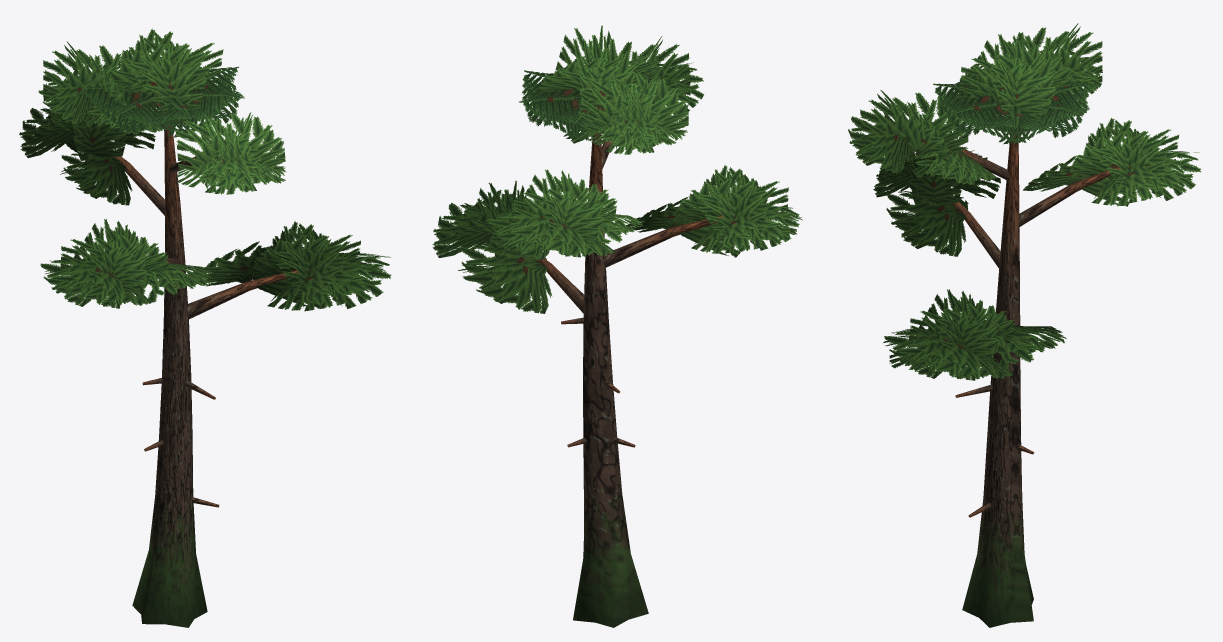
File: duckov_pine_tree_tall.obj
The picture shows the model from 3 angles, left to right: view 1: azimuth 30°, elevation 25°; view 2: azimuth 150°, elevation 25°; view 3: azimuth 270°, elevation 25°; orthographic projection.
Parts seen in each view (by area): view 1: DuckovPineTreeTall; view 2: DuckovPineTreeTall; view 3: DuckovPineTreeTall.
Boxes of the visible parts, box(x1,y1,x2,y2) form: DuckovPineTreeTall: box(19, 28, 391, 627); DuckovPineTreeTall: box(432, 25, 802, 627); DuckovPineTreeTall: box(848, 23, 1200, 627).
Bounding box in the file's own units: 4.39 × 6.81 × 3.99.
Materials: 1 (1 with a texture image).
